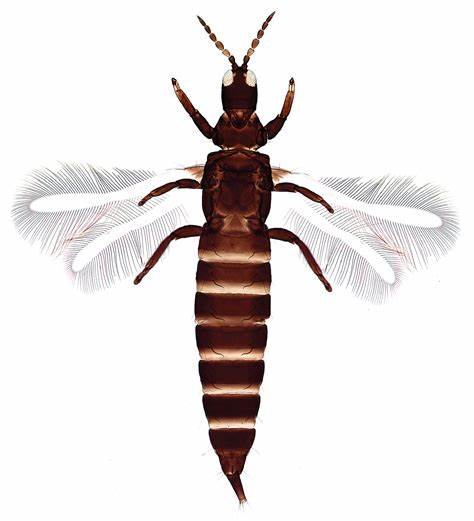Phlaeothripidae: (8, 18, 457, 510)
